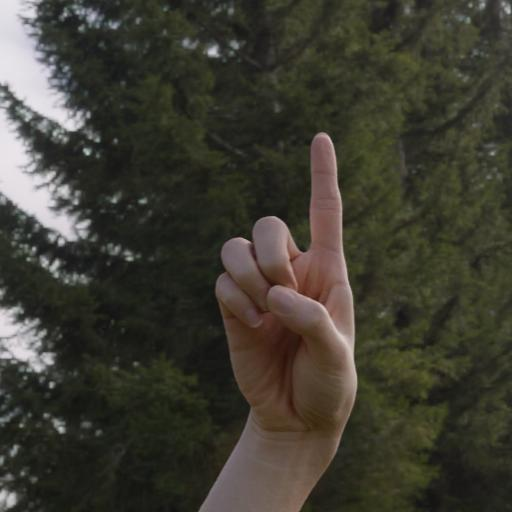D: (200, 123, 376, 512)
